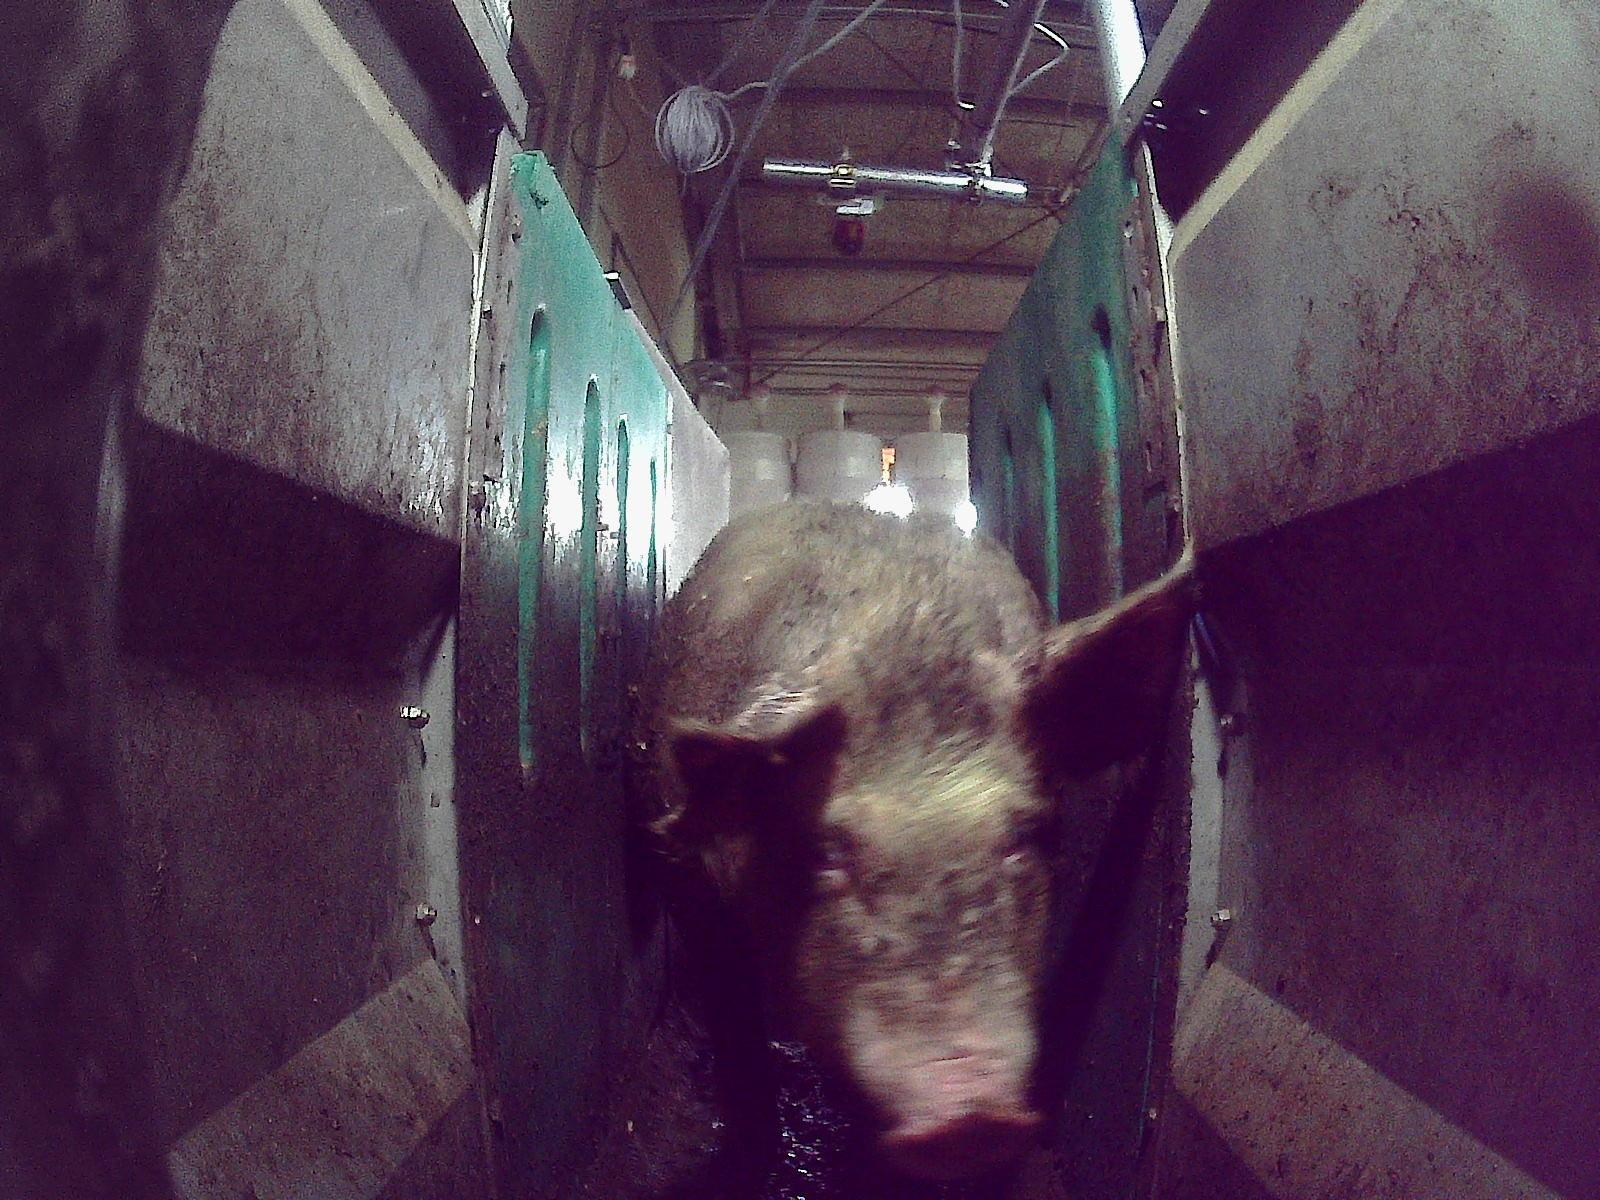Face: (754, 632, 1059, 1174)
